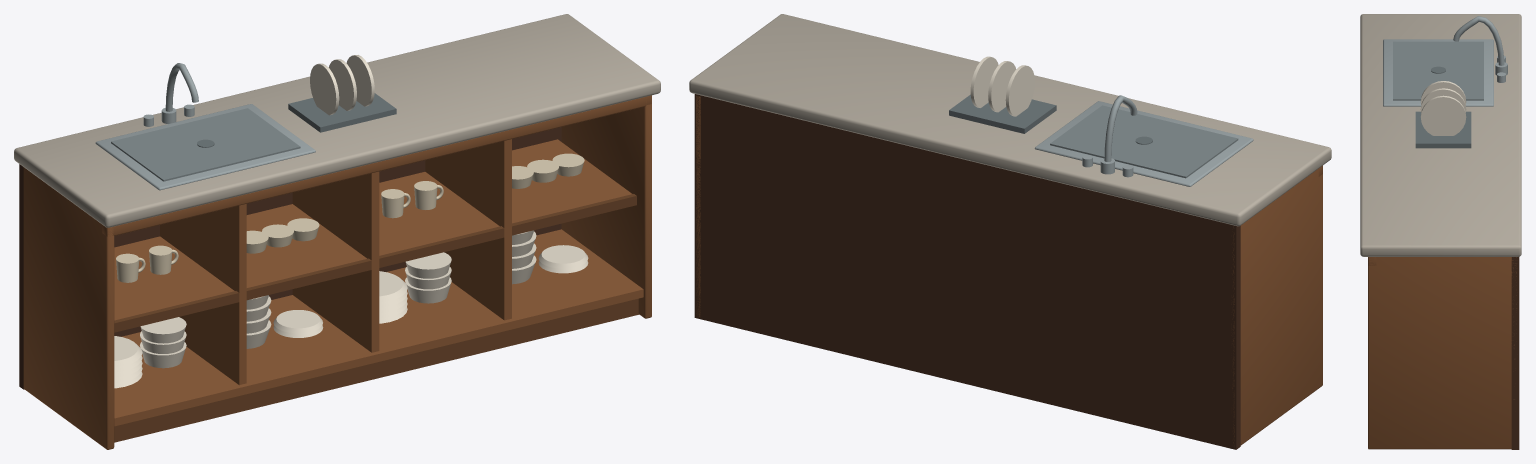
File: counter_sink.glb
3 views of the same model, side by side, from view 1: azimuth 30°, elevation 25°; view 2: azimuth 150°, elevation 25°; view 3: azimuth 270°, elevation 25° (orthographic). The views are drawn at different scales.
Visible parts, largest first — view 1: counter_sink_stone_top, counter_sink_bottom, counter_sink_side, counter_sink_side.001, counter_sink_divider.001, counter_sink_plinth, counter_sink_divider, counter_sink_divider.002, counter_sink_sink_bowl, counter_sink_top_rail, counter_sink_shelf.002, counter_sink_shelf (+22 smaller); view 2: counter_sink_back, counter_sink_stone_top, counter_sink_side, counter_sink_sink_bowl, counter_sink_sink_rim, counter_sink_rack, counter_sink_rack_plate, counter_sink_side.001, counter_sink_rack_plate.002, counter_sink_rack_plate.001, counter_sink_tap; view 3: counter_sink_stone_top, counter_sink_side.001, counter_sink_sink_bowl, counter_sink_sink_rim, counter_sink_back, counter_sink_rack_plate.002, counter_sink_rack, counter_sink_tap, counter_sink_rack_plate.001, counter_sink_rack_plate.
Part boxes in pixels (x1=…): counter_sink_stone_top: x1=14, y1=14, x2=660, y2=227; counter_sink_bottom: x1=114, y1=229, x2=643, y2=426; counter_sink_side: x1=23, y1=167, x2=114, y2=449; counter_sink_side.001: x1=561, y1=95, x2=651, y2=318; counter_sink_divider.001: x1=292, y1=171, x2=379, y2=352; counter_sink_plinth: x1=114, y1=298, x2=638, y2=442; counter_sink_divider: x1=160, y1=204, x2=246, y2=384; counter_sink_divider.002: x1=425, y1=139, x2=511, y2=320; counter_sink_sink_bowl: x1=111, y1=108, x2=300, y2=181; counter_sink_top_rail: x1=102, y1=95, x2=651, y2=236; counter_sink_shelf.002: x1=379, y1=172, x2=499, y2=255; counter_sink_shelf: x1=114, y1=236, x2=234, y2=320; counter_sink_back: x1=694, y1=94, x2=1240, y2=449; counter_sink_stone_top: x1=689, y1=14, x2=1331, y2=226; counter_sink_side: x1=1231, y1=169, x2=1322, y2=447; counter_sink_sink_bowl: x1=1050, y1=105, x2=1238, y2=178; counter_sink_sink_rim: x1=1034, y1=101, x2=1253, y2=186; counter_sink_rack: x1=949, y1=94, x2=1056, y2=133; counter_sink_rack_plate: x1=1005, y1=65, x2=1034, y2=116; counter_sink_side.001: x1=696, y1=95, x2=700, y2=317; counter_sink_rack_plate.002: x1=970, y1=56, x2=998, y2=107; counter_sink_rack_plate.001: x1=988, y1=61, x2=1016, y2=112; counter_sink_tap: x1=1104, y1=95, x2=1137, y2=161; counter_sink_stone_top: x1=1360, y1=14, x2=1521, y2=256; counter_sink_side.001: x1=1368, y1=257, x2=1516, y2=449; counter_sink_sink_bowl: x1=1393, y1=41, x2=1483, y2=100; counter_sink_sink_rim: x1=1383, y1=39, x2=1493, y2=106; counter_sink_back: x1=1511, y1=257, x2=1519, y2=449; counter_sink_rack_plate.002: x1=1420, y1=95, x2=1466, y2=135; counter_sink_rack: x1=1415, y1=111, x2=1471, y2=148; counter_sink_tap: x1=1453, y1=16, x2=1504, y2=65; counter_sink_rack_plate.001: x1=1420, y1=88, x2=1466, y2=112; counter_sink_rack_plate: x1=1420, y1=81, x2=1466, y2=104.
Bounding box in the file's own units: 2.19 × 1.15 × 0.64.
